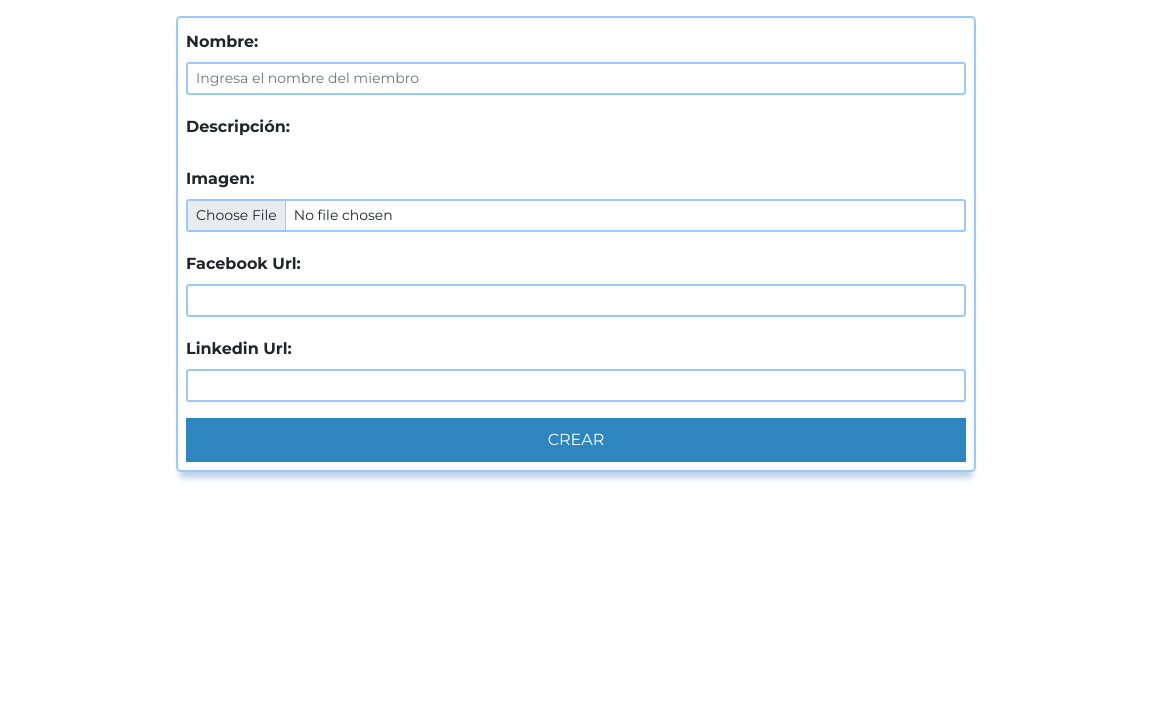
Scenario: <MembersForm /> › should show error validation messages
The image size is (1152, 709).
Click the button "CREAR" at [576, 440], box x1=186 y1=418 x2=966 y2=462
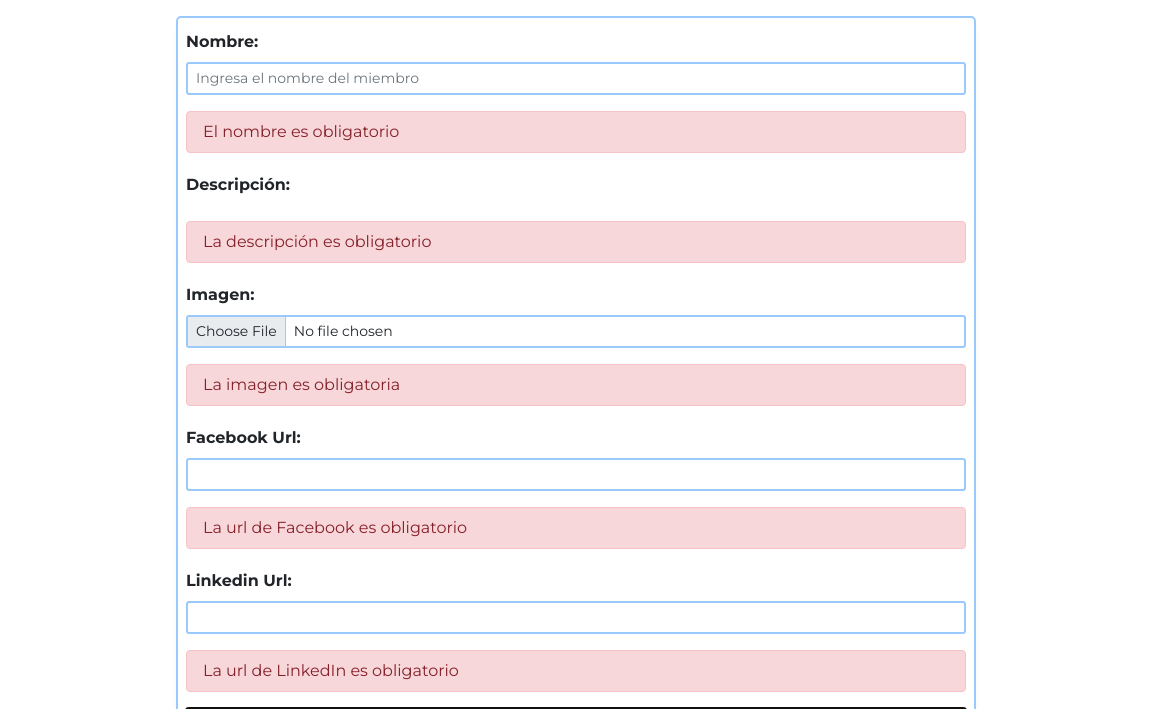
Check: the text "El nombre es obligatorio" is shown, box x1=186 y1=111 x2=966 y2=153
Check: the text "La imagen es obligatoria" is shown, box x1=186 y1=364 x2=966 y2=406
Check: the text "La descripción es obligatorio" is shown, box x1=186 y1=221 x2=966 y2=263
